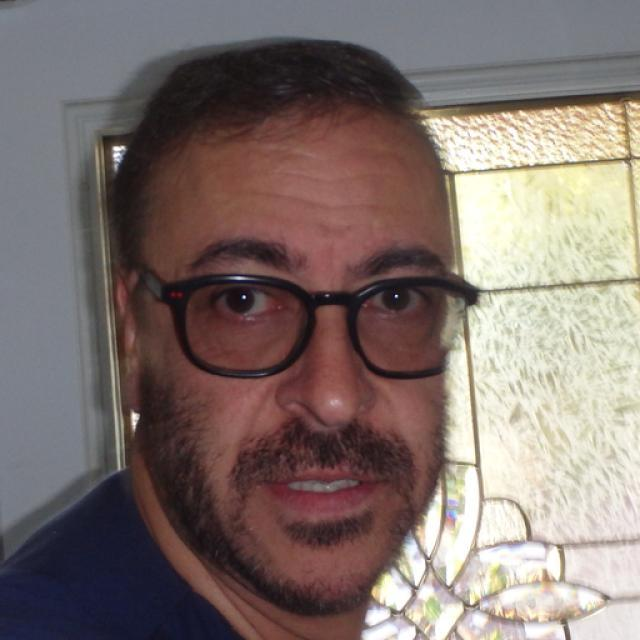neutral: (138, 125, 458, 609)
